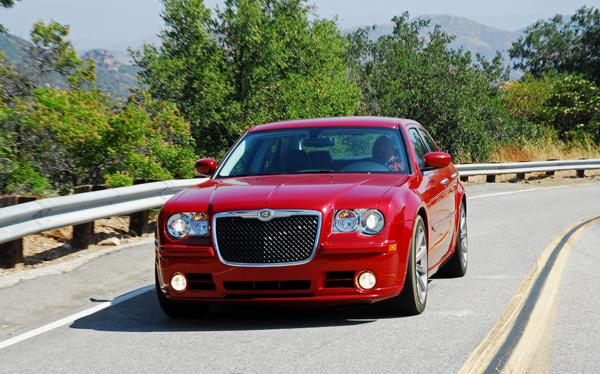Chrysler: (219, 206, 317, 223)
